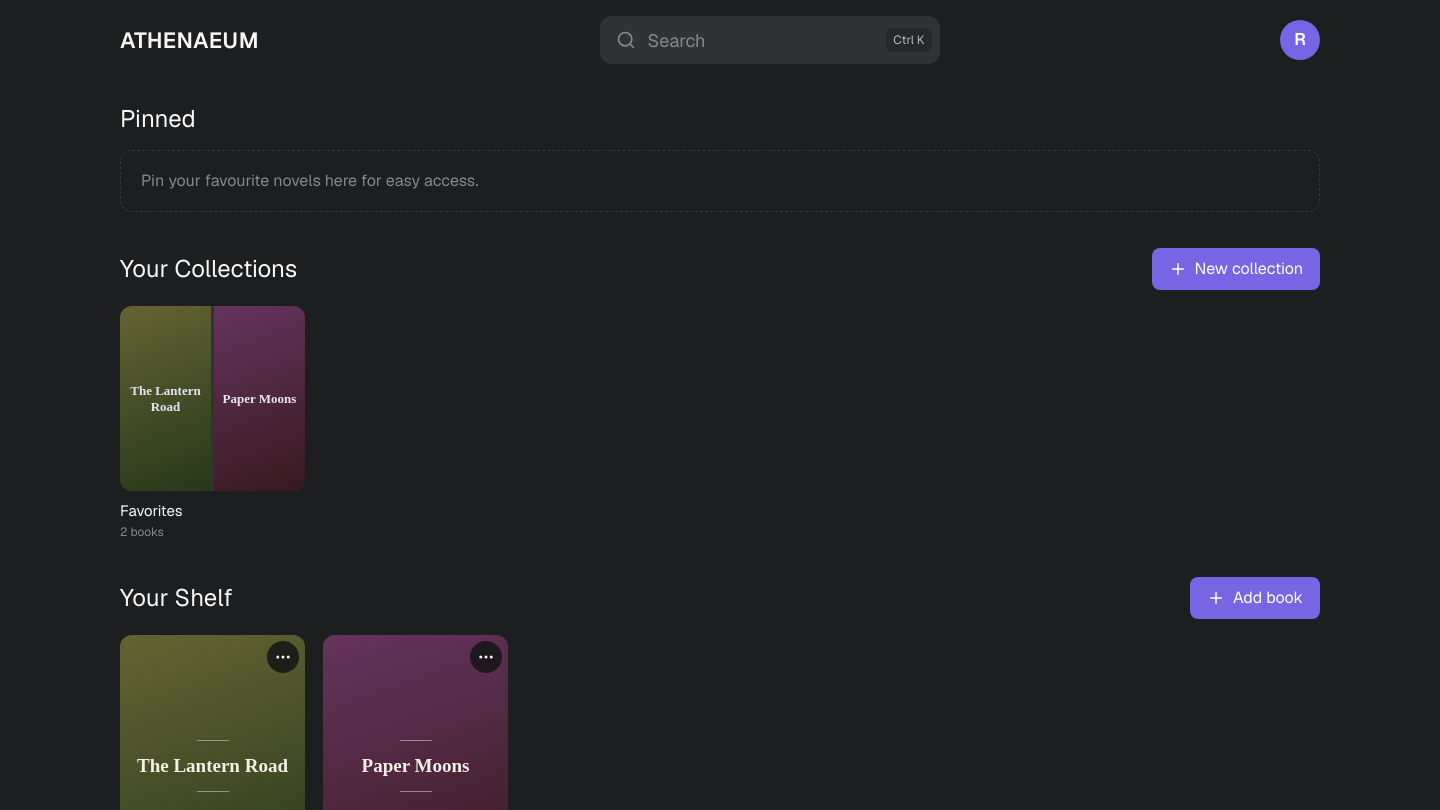
Test: deleting a book › keeps the book when you cancel
This screenshot has width=1440, height=810.
Step 1. Click the button named "Options for The Lantern Road" → (283, 657), box [267,641,299,673]
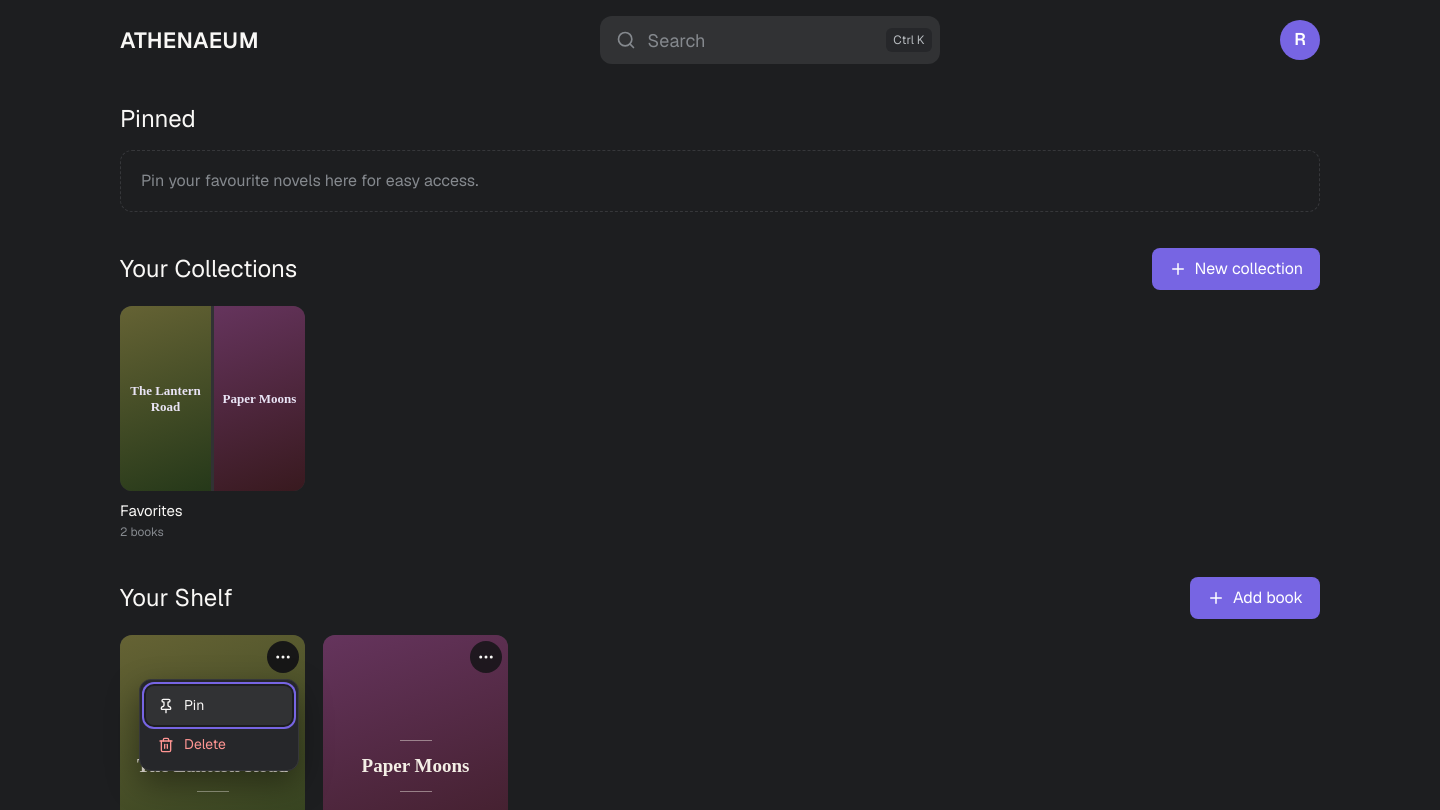
Step 2. Click the menu item "Delete" → (219, 745), box [146,725,292,764]
(page scrolled)
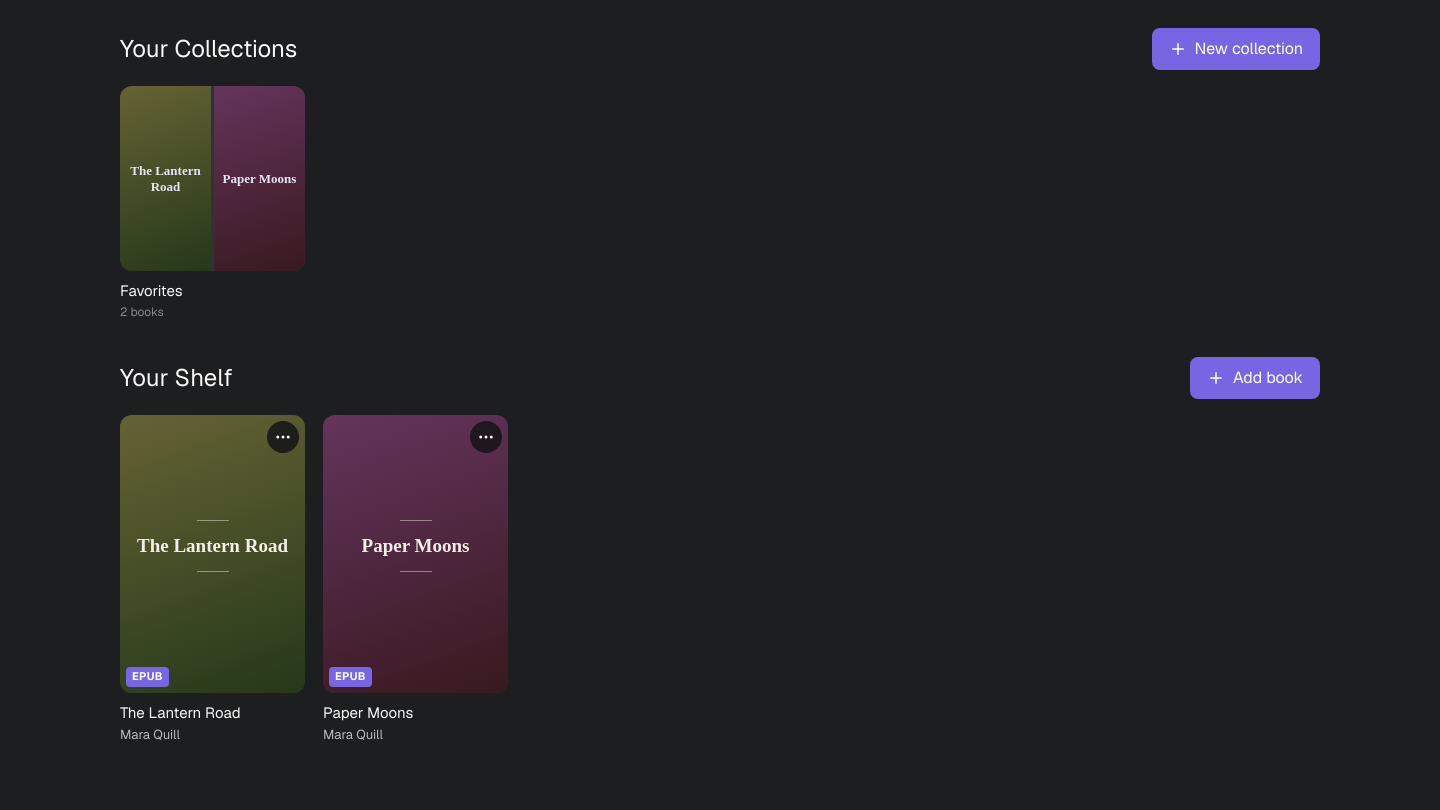
Check: the heading "The Lantern Road" is shown, box [120,703,241,722]
Check: the menu is gone
